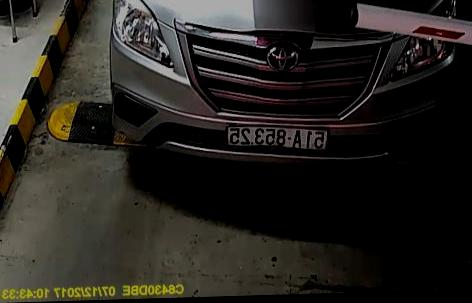License_Plate: (221, 121, 328, 161)
